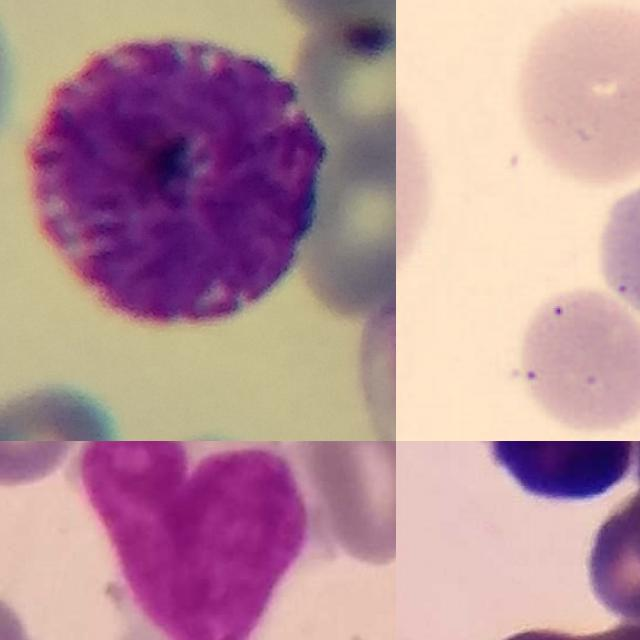Basophil: (29, 33, 330, 328)
Lymphocyte: (586, 144, 640, 361), (470, 441, 640, 504)
Monocyte: (80, 441, 329, 640), (354, 241, 396, 441)
RBC: (508, 0, 640, 183), (512, 283, 640, 436), (396, 64, 446, 288)
